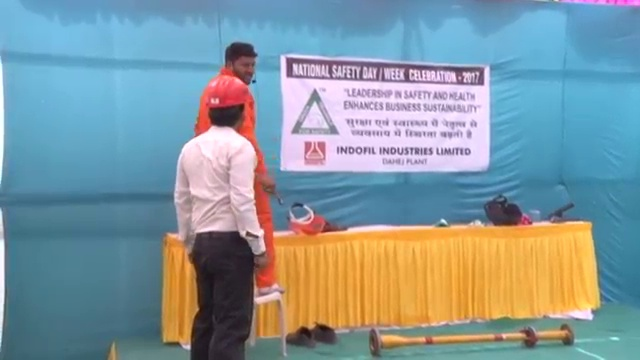helmet: (206, 75, 249, 109)
helmet_off: (223, 41, 259, 84)
helmet_on: (205, 75, 249, 133)
person: (168, 76, 267, 360), (201, 40, 295, 295)
